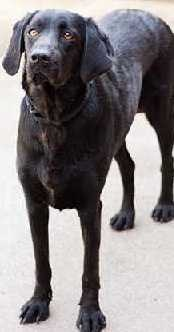Dog: (2, 9, 173, 319)
